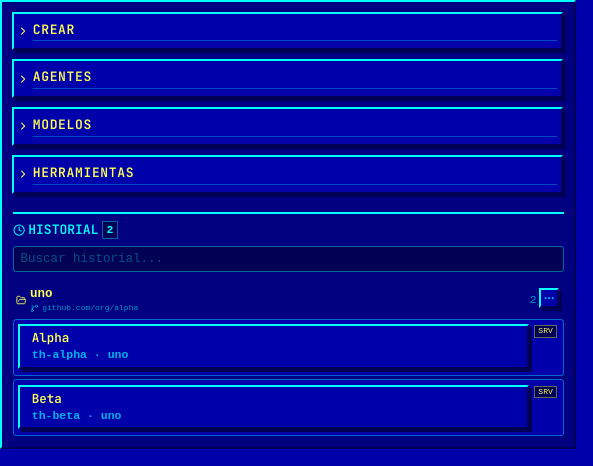
Scenario: Sidebar (panel lateral agrupado) › el remoto de Git identifica el proyecto: dos clones comparten el archivo
The image size is (593, 466).
Check: the number of elements with test id "project-group-uno" is 1, box [12,279,564,316]
Click the button named "Opciones del proyecto uno".
click(549, 298)  # box [539,288,559,308]
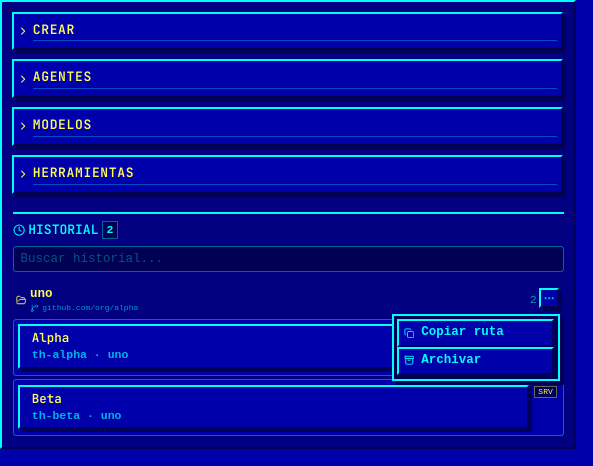
Click the menu item "Archivar".
click(475, 361)  # box [396,347,554,375]
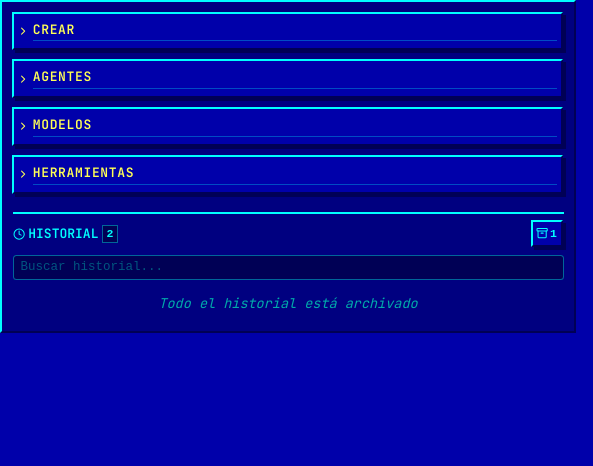
Check: the element with test id "session-row-th-alpha" is gone
Check: the element with test id "session-row-th-beta" is gone
